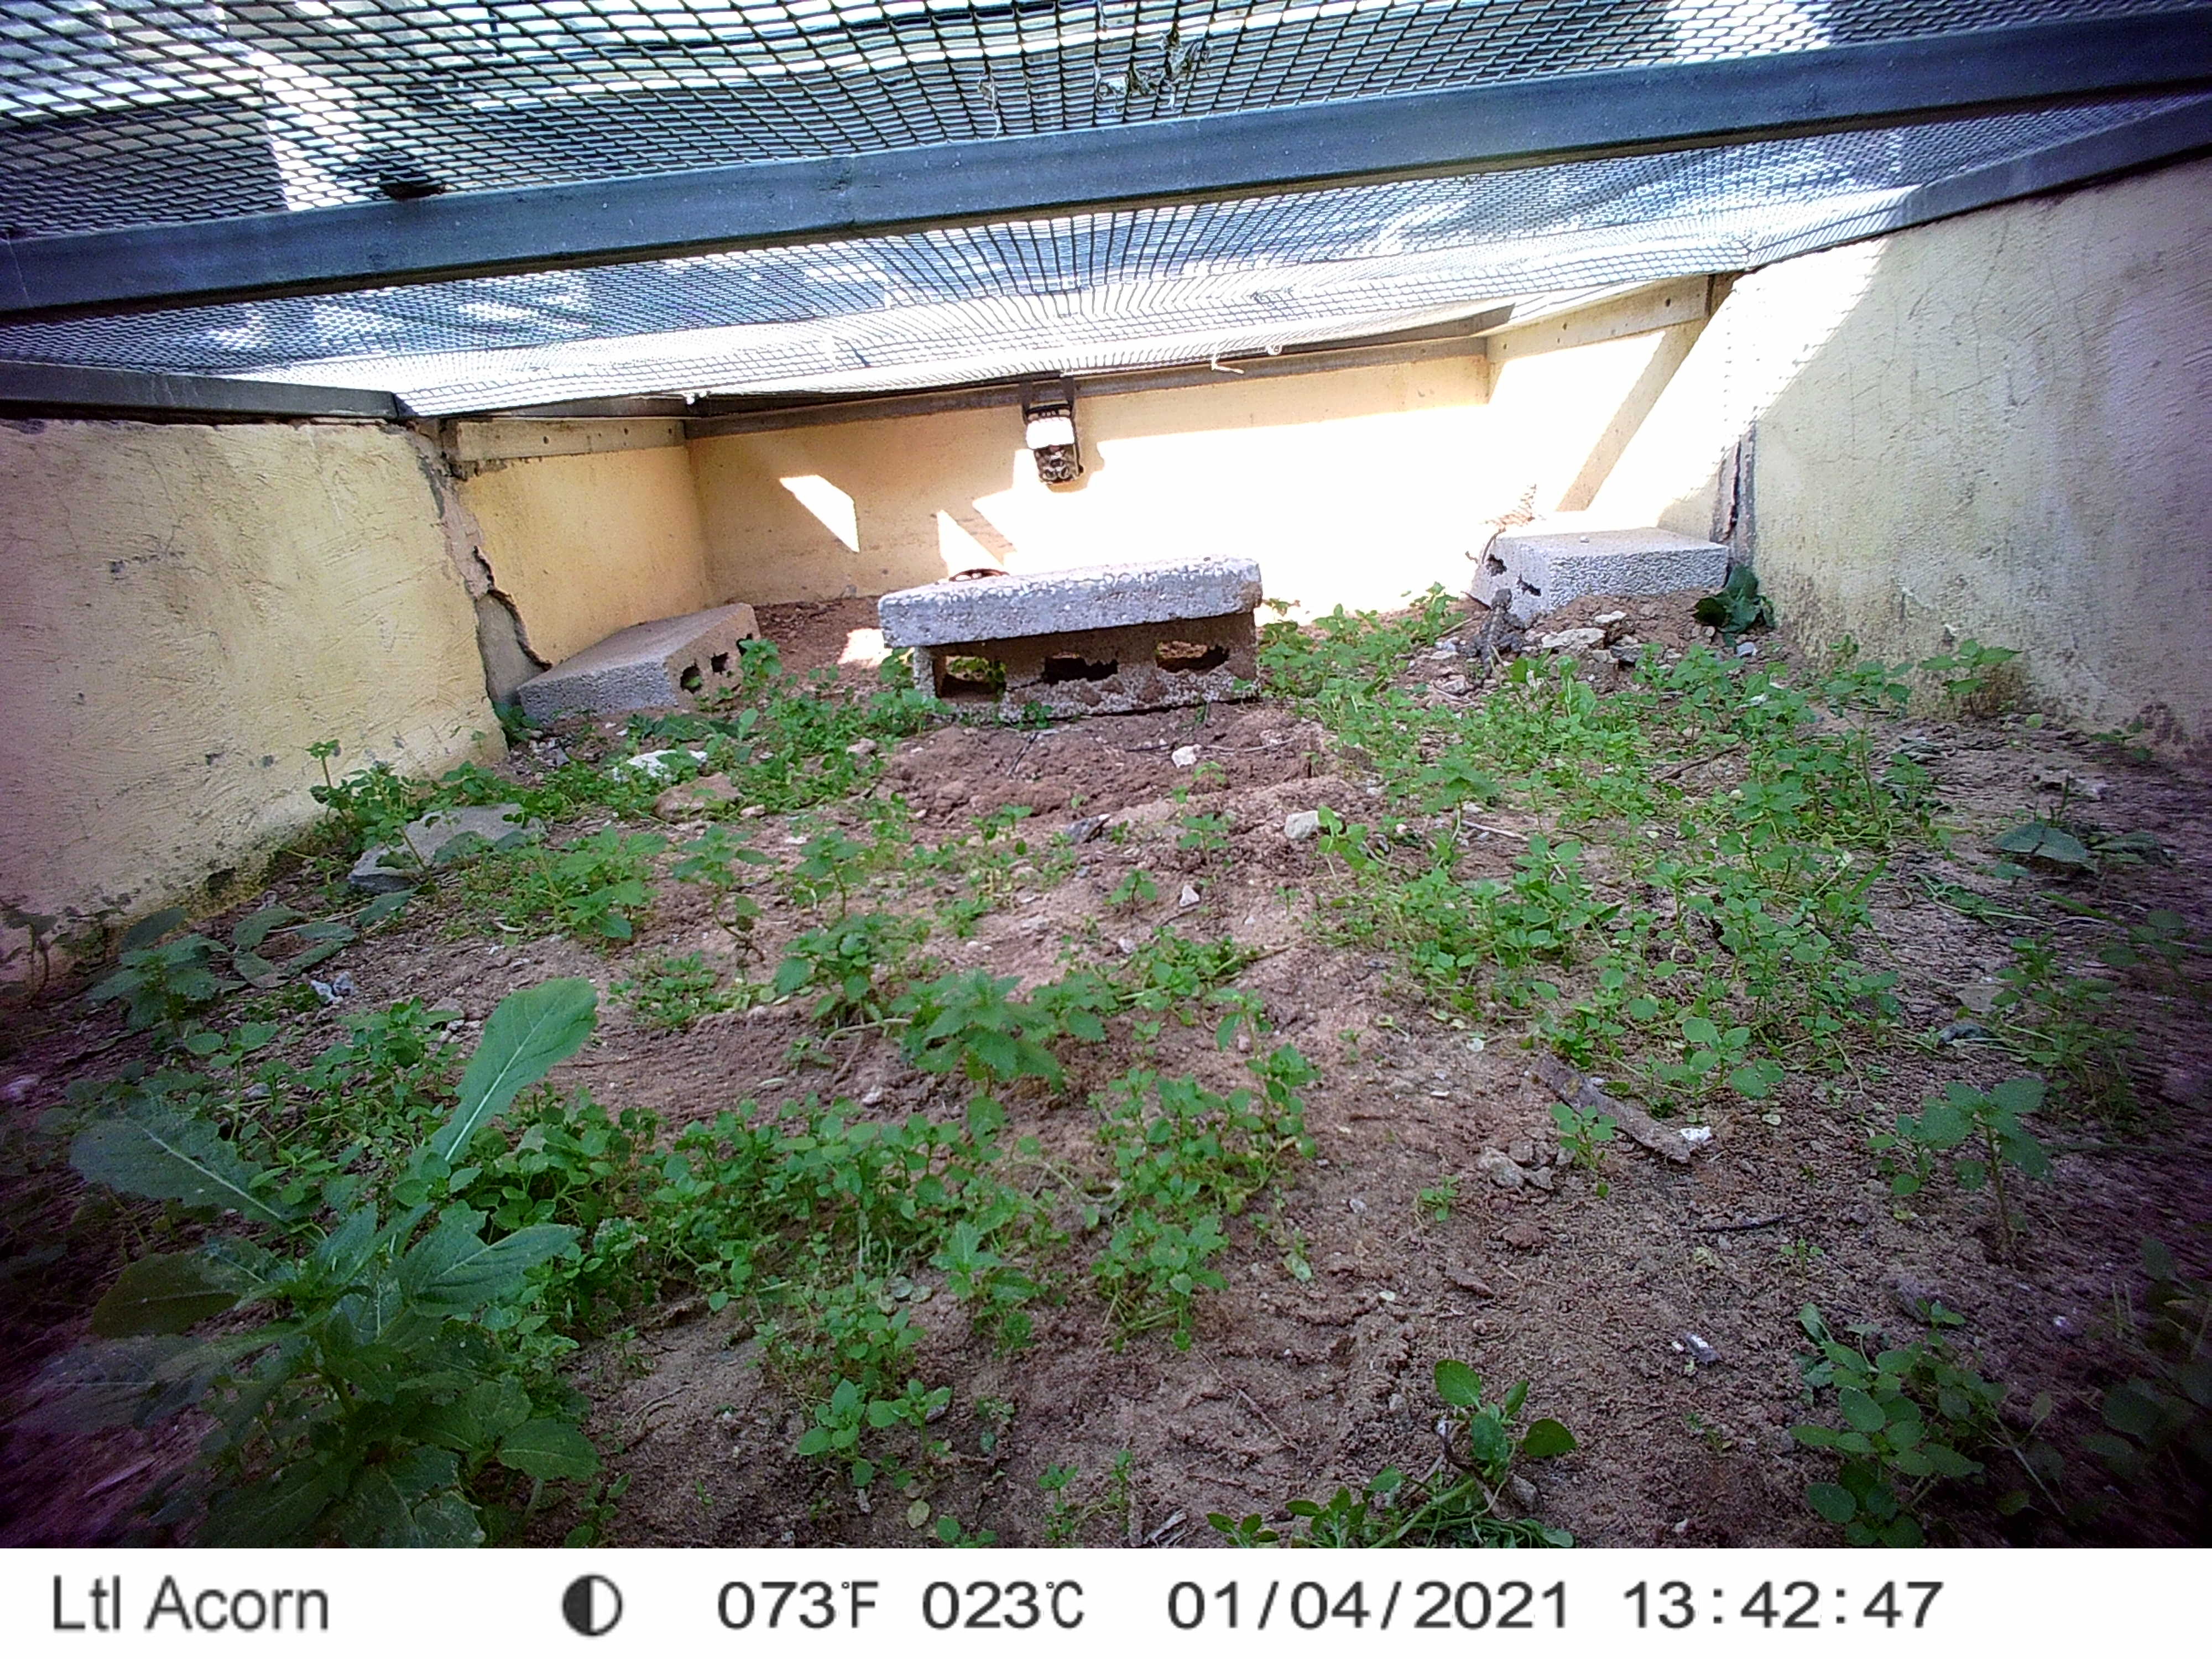lizard: (1447, 587, 1524, 704), (1461, 477, 1545, 561)
